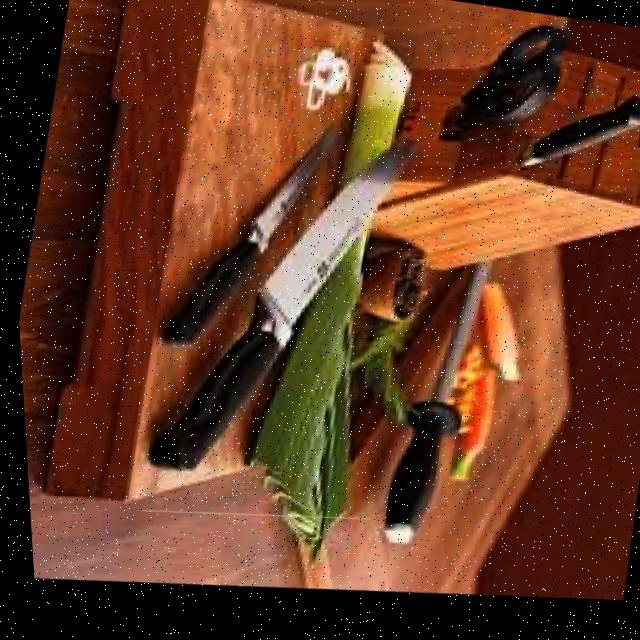knife: (123, 104, 433, 512), (137, 97, 348, 377), (509, 79, 640, 198)
